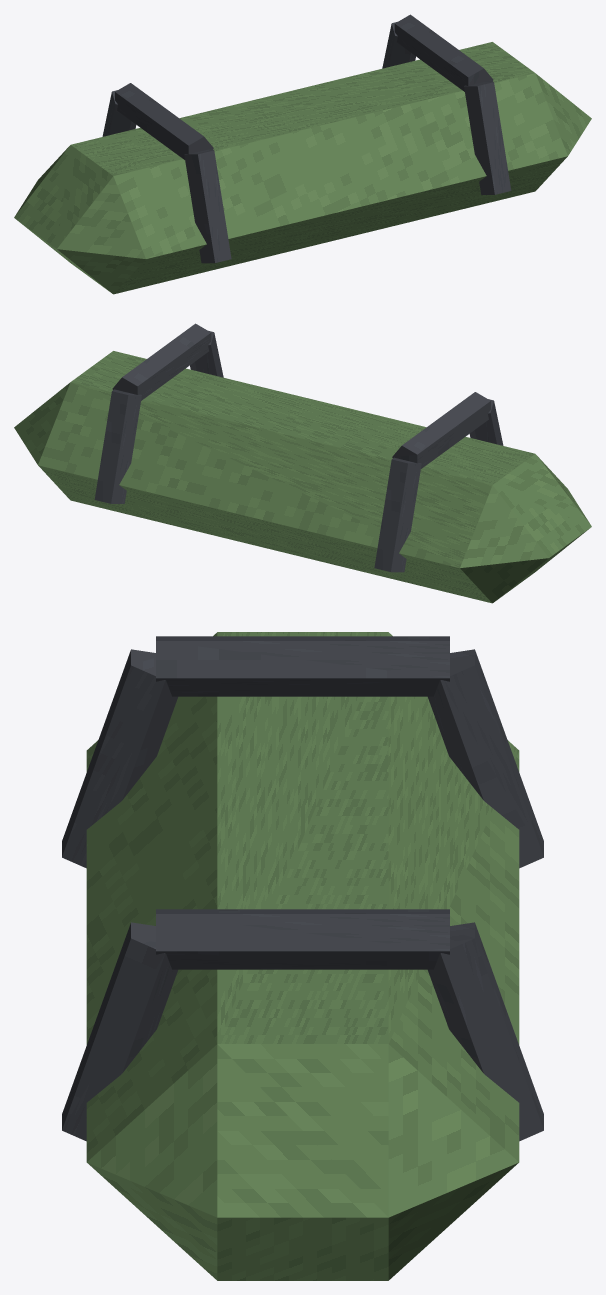
Rendered from tent_kit.glb.
3 views of the same model, one above another, from view 1: azimuth 30°, elevation 25°; view 2: azimuth 150°, elevation 25°; view 3: azimuth 270°, elevation 25° (orthographic). The views are drawn at different scales.
Visible parts, largest first — view 1: block_case body, block_compression strap 2 (×2), block_compression strap 1 (×2), block_compression strap 0 (×2); view 2: block_case body, block_compression strap 0 (×2), block_compression strap 1 (×2), block_compression strap 2 (×2); view 3: block_case body, block_compression strap 1 (×2), block_compression strap 0 (×2), block_compression strap 2 (×2).
Part boxes in pixels (<box>): block_case body: <box>14,42,591,294</box>; block_compression strap 2 (×2): <box>184,80,511,263</box>; block_compression strap 1 (×2): <box>115,14,493,159</box>; block_compression strap 0 (×2): <box>102,21,415,136</box>; block_case body: <box>14,351,591,603</box>; block_compression strap 0 (×2): <box>94,389,421,572</box>; block_compression strap 1 (×2): <box>112,323,490,468</box>; block_compression strap 2 (×2): <box>190,330,503,445</box>; block_case body: <box>86,632,519,1280</box>; block_compression strap 1 (×2): <box>156,636,449,969</box>; block_compression strap 0 (×2): <box>428,649,543,1141</box>; block_compression strap 2 (×2): <box>62,649,177,1141</box>.
Bounding box in the file's own units: 0.9 × 0.2423 × 0.3512.
1 material, 1 textured.
